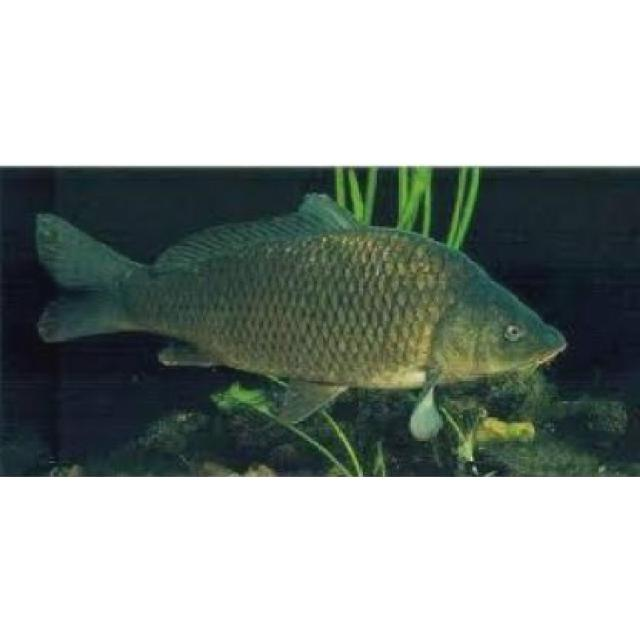ikan-mas: (41, 203, 568, 400)
